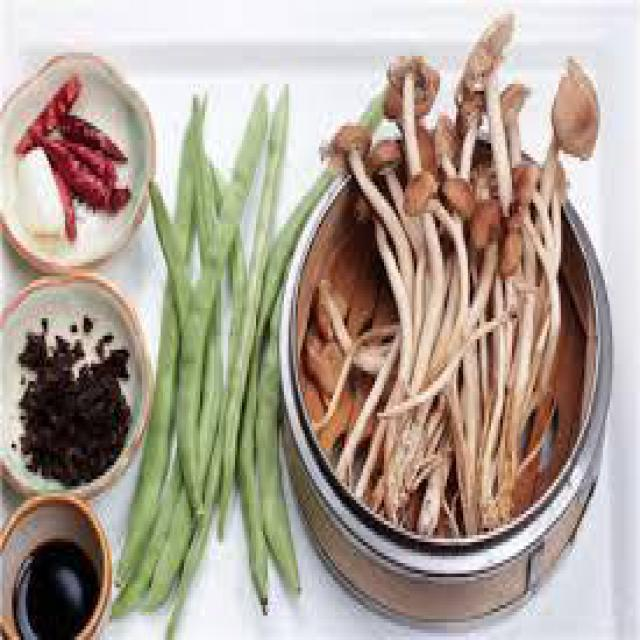Agrocybe aegerita: (317, 22, 598, 542)
